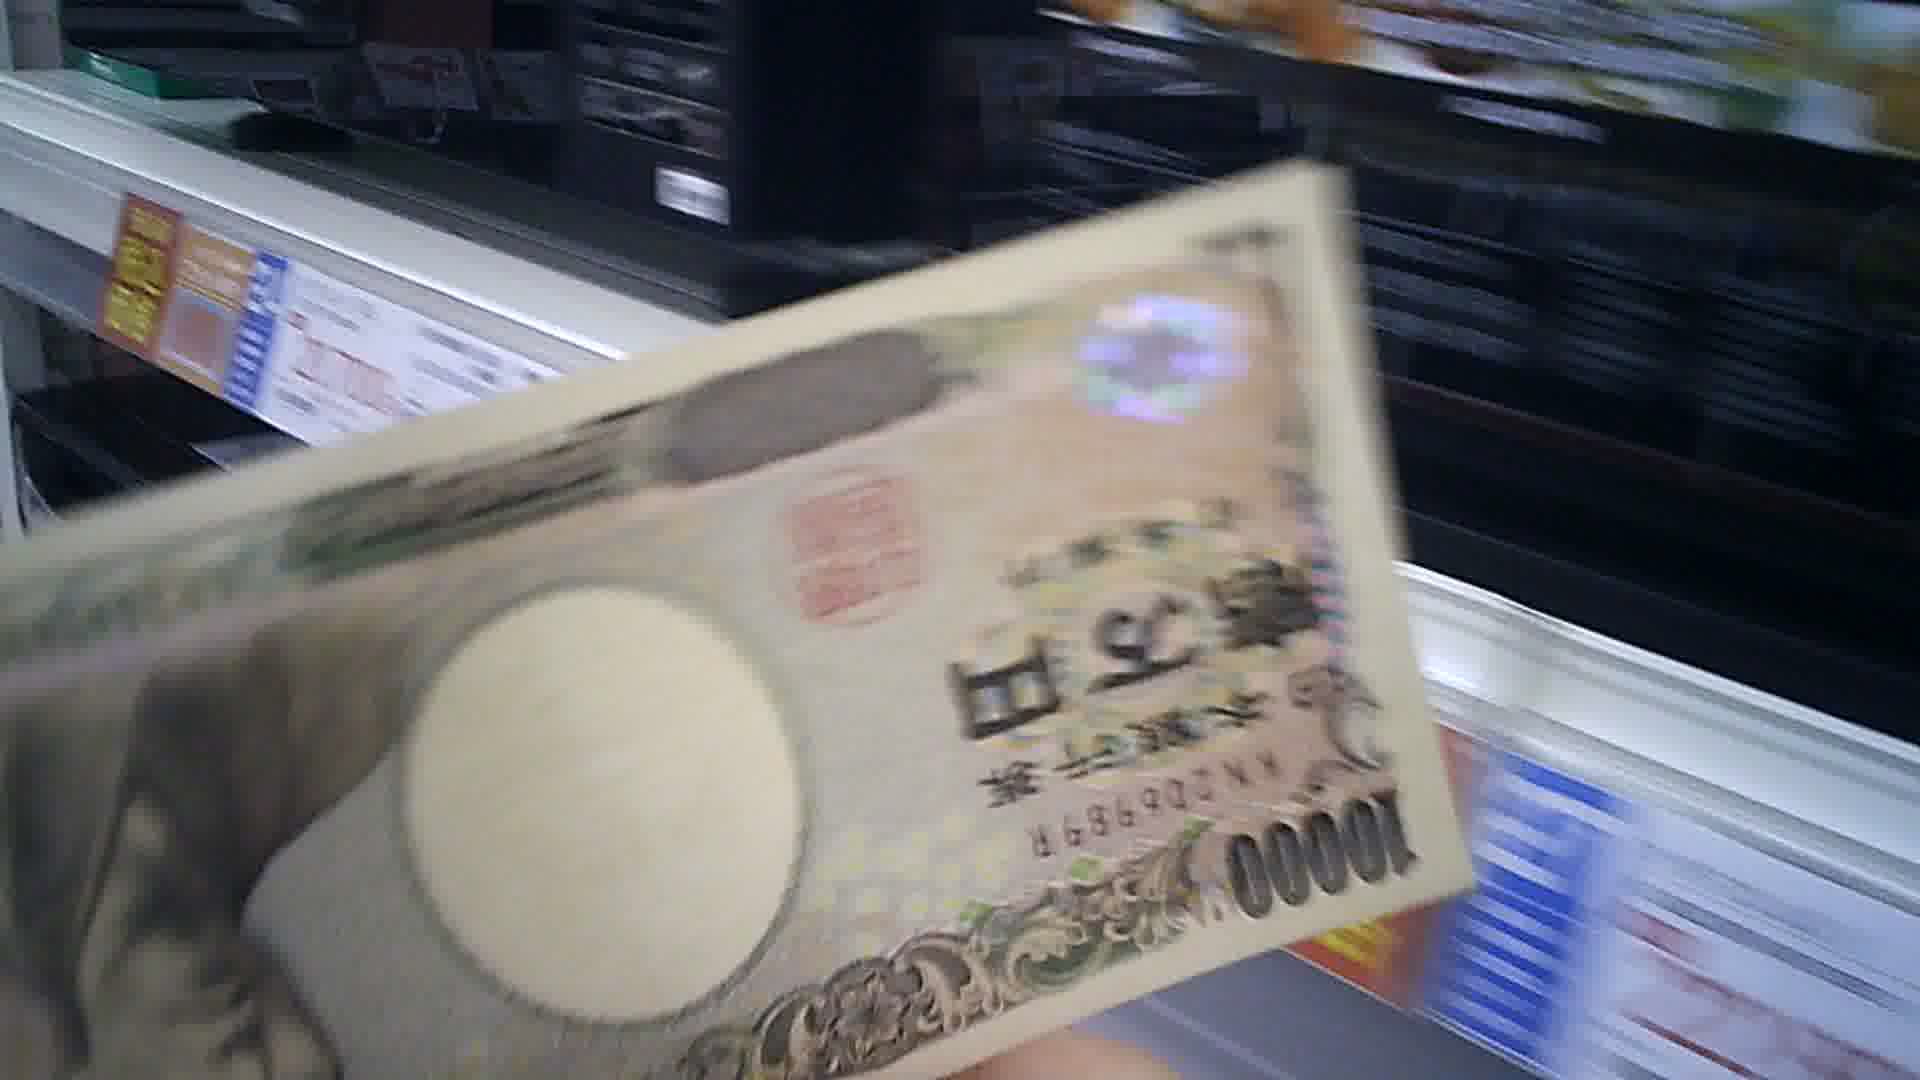10,000 Yen: (20, 181, 1551, 1073)
